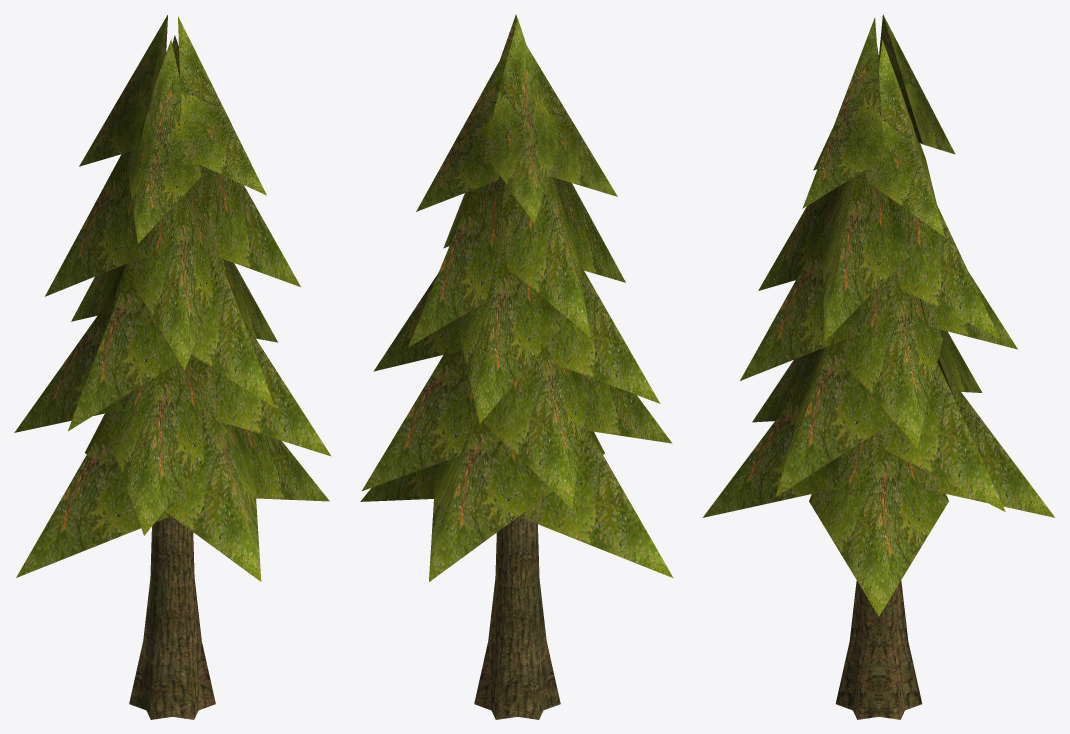
The model's file is Tree04.FBX.
The picture shows the model from 3 angles, left to right: view 1: azimuth 30°, elevation 25°; view 2: azimuth 150°, elevation 25°; view 3: azimuth 270°, elevation 25°; orthographic projection.
Visible parts, largest first — view 1: Tree04; view 2: Tree04; view 3: Tree04.
Part boxes in pixels (box(x1,y1,x2,y2)): Tree04: box(14, 15, 331, 719); Tree04: box(360, 14, 673, 719); Tree04: box(702, 14, 1055, 719).
Bounding box in the file's own units: 517 × 1085 × 504.
